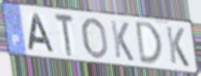A: (27, 13, 56, 54)
D: (135, 20, 164, 66)
K: (165, 24, 191, 69), (109, 19, 135, 63)
O: (82, 16, 110, 61)
T: (53, 12, 76, 59)
